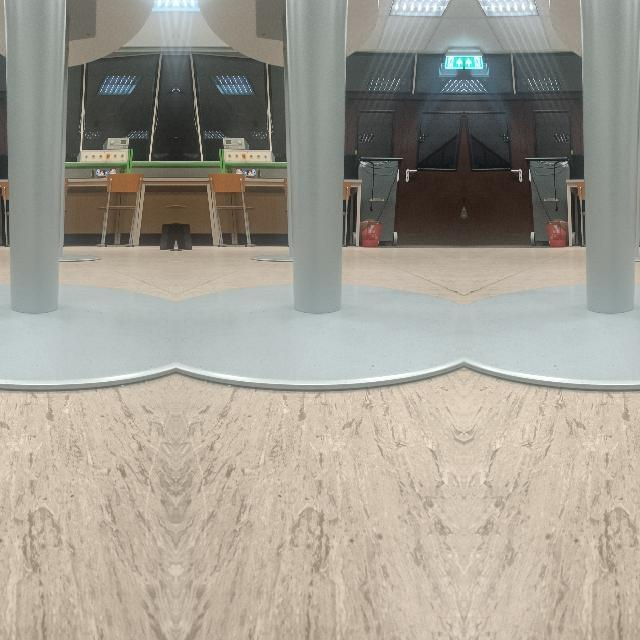obstacle: (176, 89, 464, 389), (463, 89, 640, 389), (0, 89, 173, 389)
